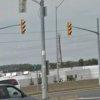Traffic light: (63, 16, 76, 41)
